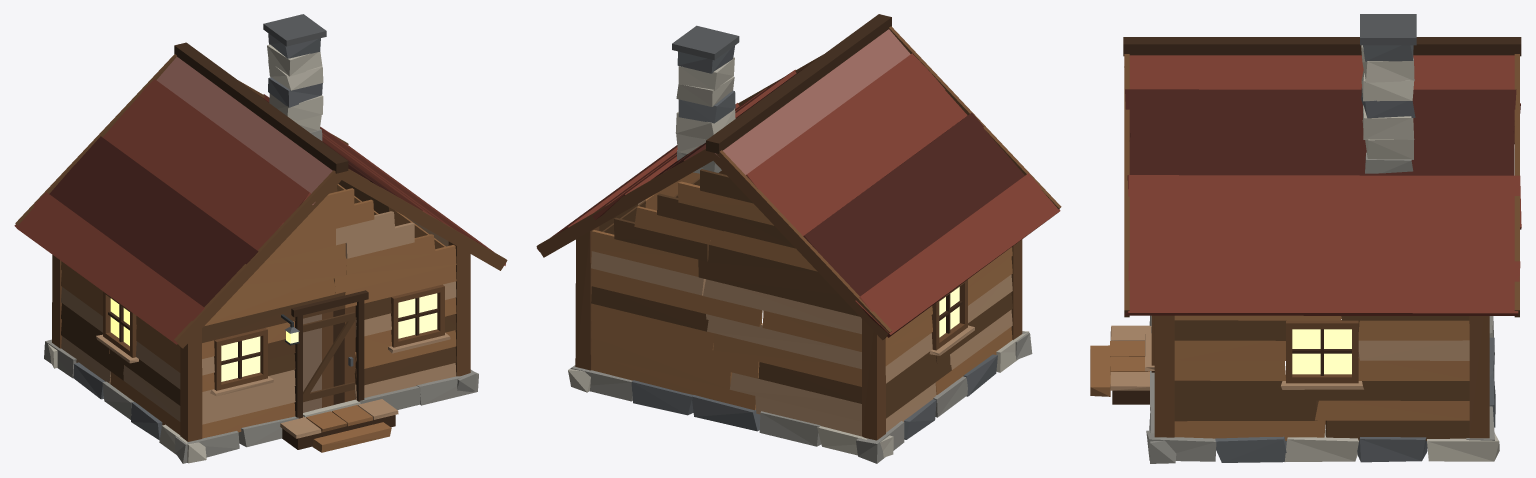
File: SM_Hut.fbx
3 renders of one model, left to right at view 1: azimuth 30°, elevation 25°; view 2: azimuth 150°, elevation 25°; view 3: azimuth 270°, elevation 25°, orthographic. The views are drawn at different scales.
Parts seen in each view (by area): view 1: SM_Hut; view 2: SM_Hut; view 3: SM_Hut.
Boxes of the visible parts, x1,y1,x2,y2 form: SM_Hut: (14, 14, 507, 463); SM_Hut: (536, 14, 1061, 463); SM_Hut: (1090, 14, 1521, 463).
Size of the model in its own units: 7.14 by 6.45 by 6.52.
